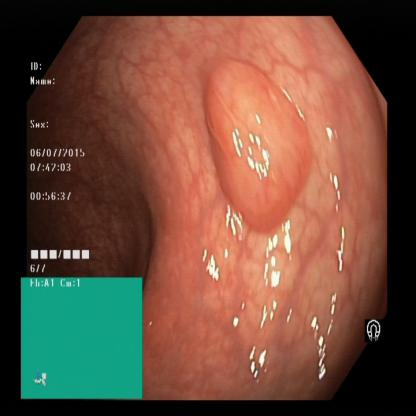Labels: (25, 57, 102, 278), (22, 274, 144, 396), (355, 313, 391, 343)
Polyps: (209, 72, 312, 223)
